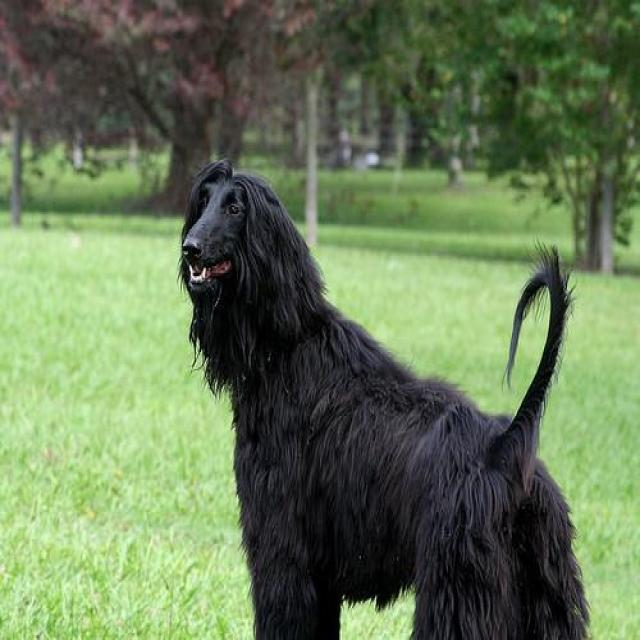afghan_hound: (179, 162, 589, 638)
